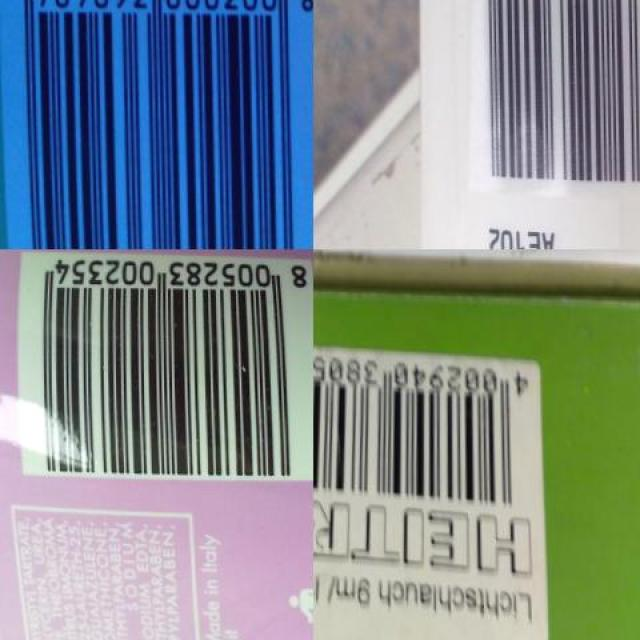Barcode: (0, 0, 313, 249), (314, 329, 546, 640), (12, 249, 313, 487), (468, 0, 640, 193)
